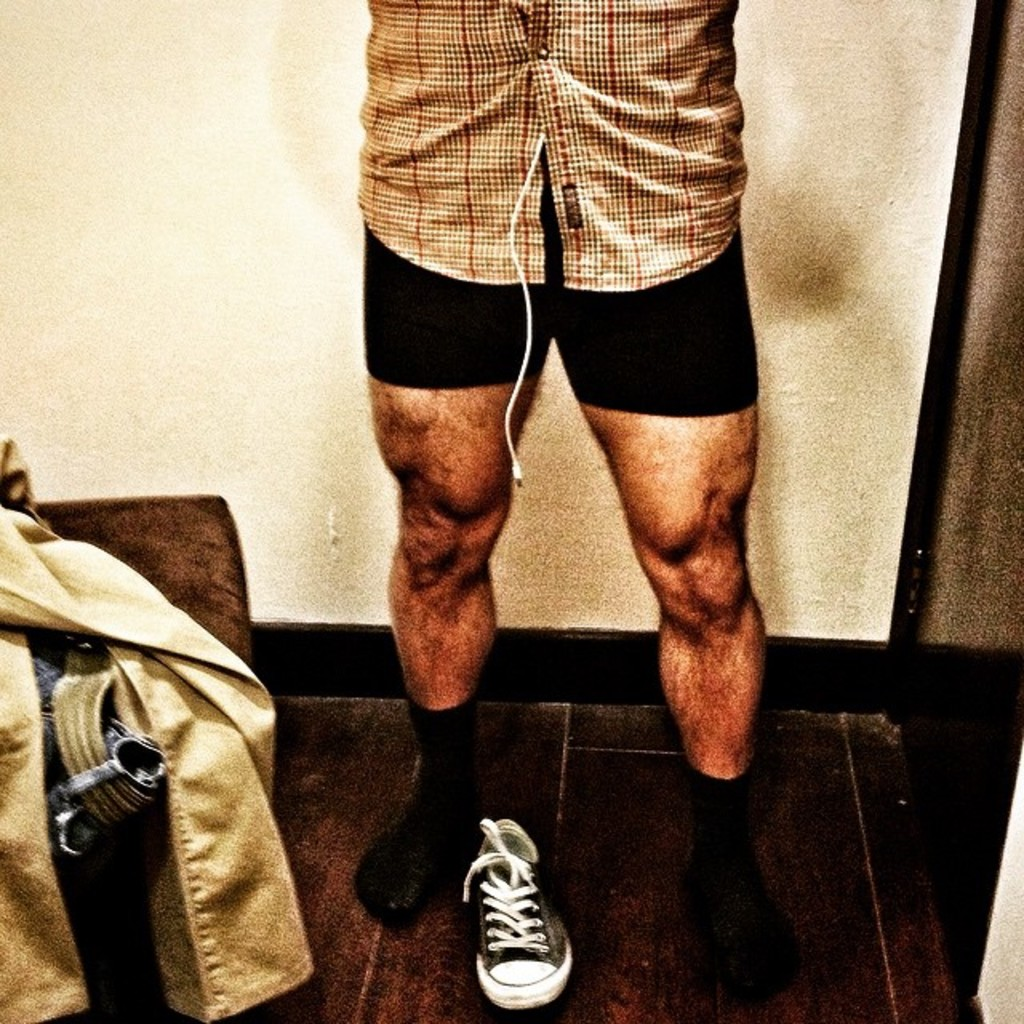Person: (353, 0, 798, 997)
